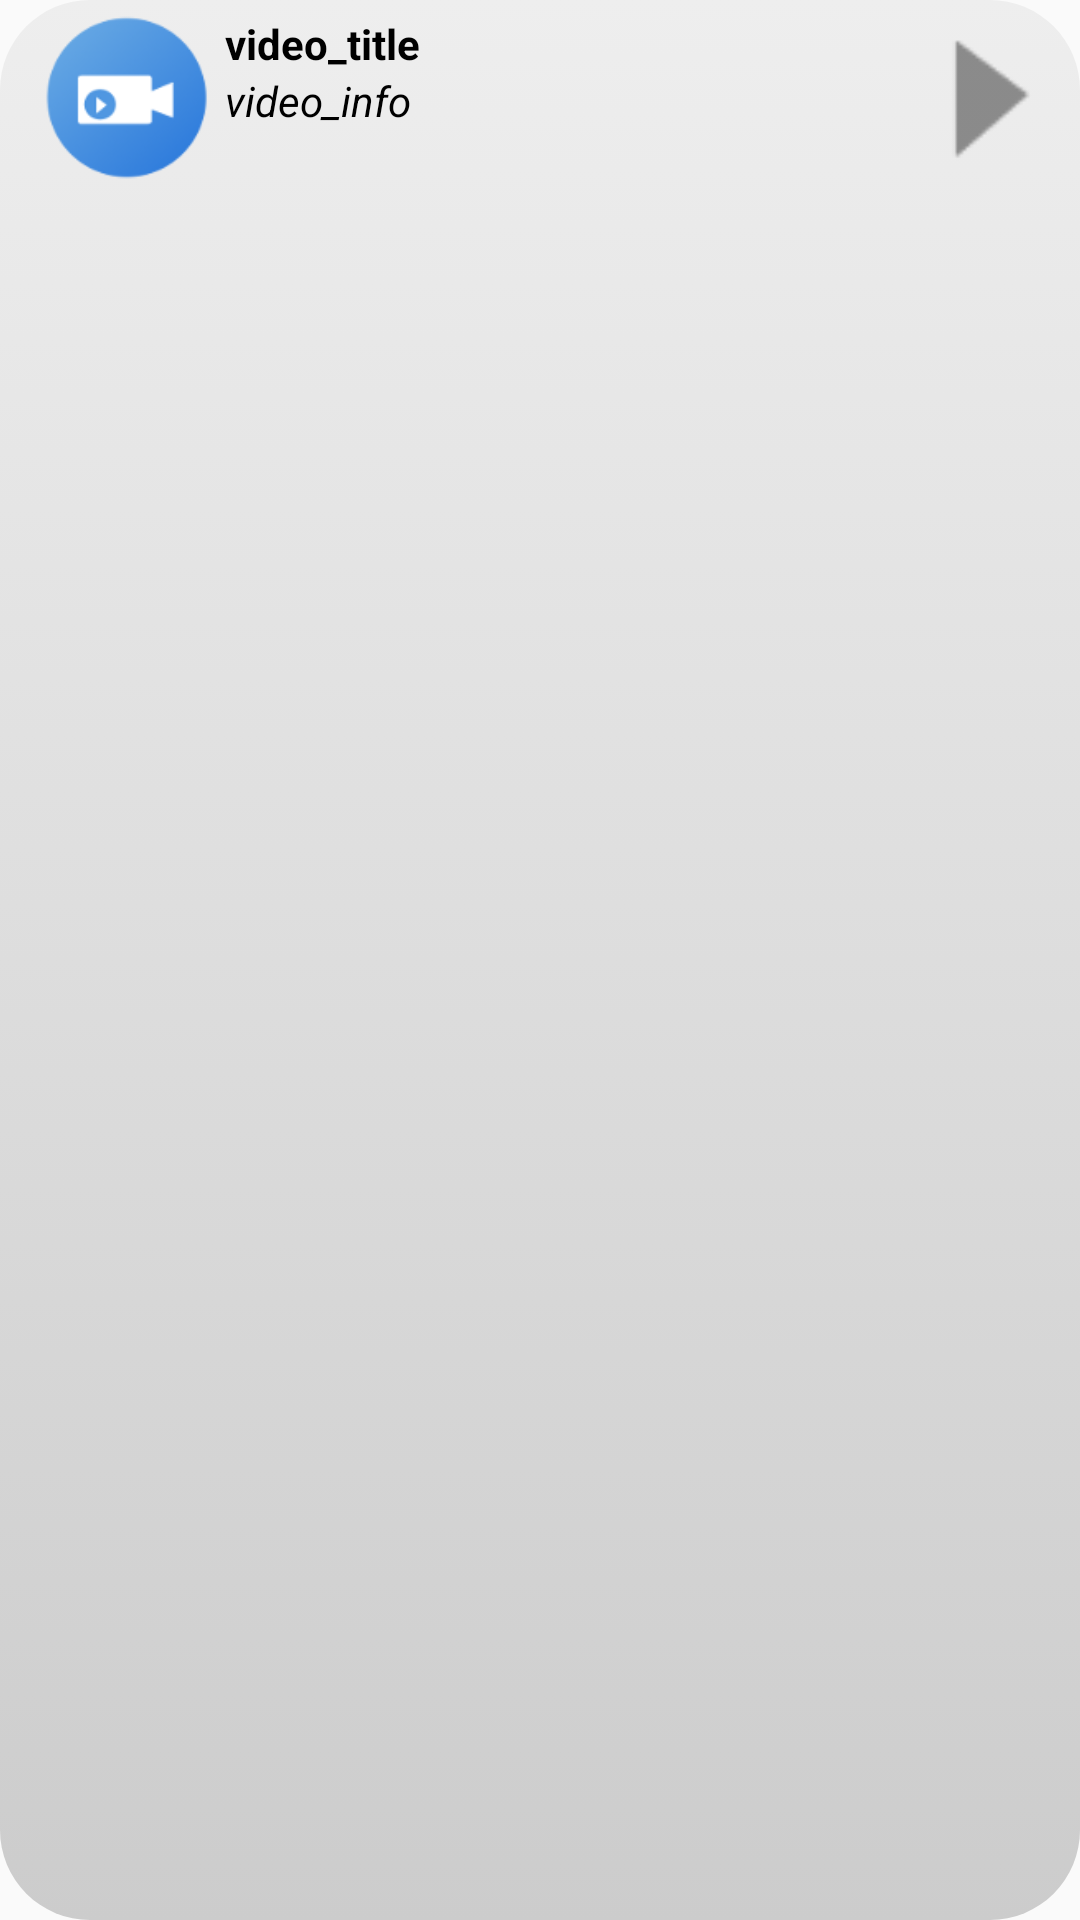

Locate icon controls on the screen. Image size 1080px x 1920px, boxes as Rect(x1, y1, x2, y2).
play tiny: Rect(955, 41, 1028, 157)
